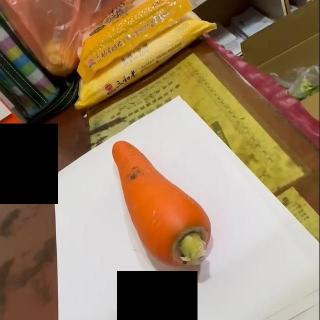carrot: (111, 140, 213, 268)
